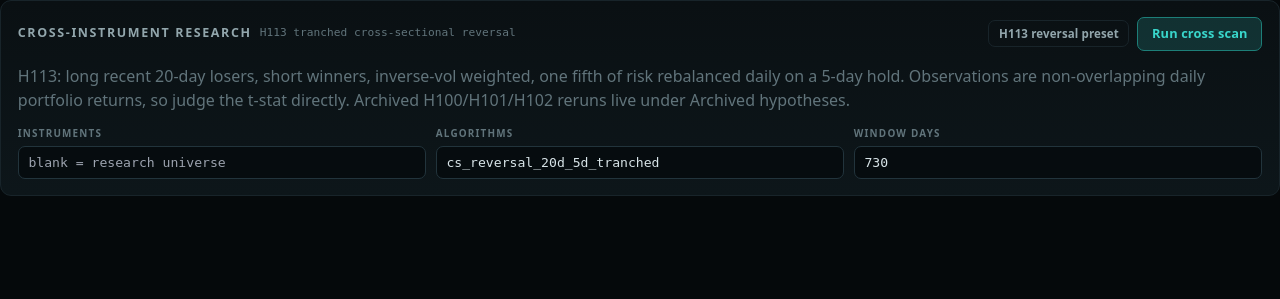
Scenario: submits the active H113 reversal preset and renders its row
What coordinates should you click on to do the following:
click the button "Run cross scan"
I would click on:
 (1200, 34)
Its box is [1138, 17, 1262, 51].
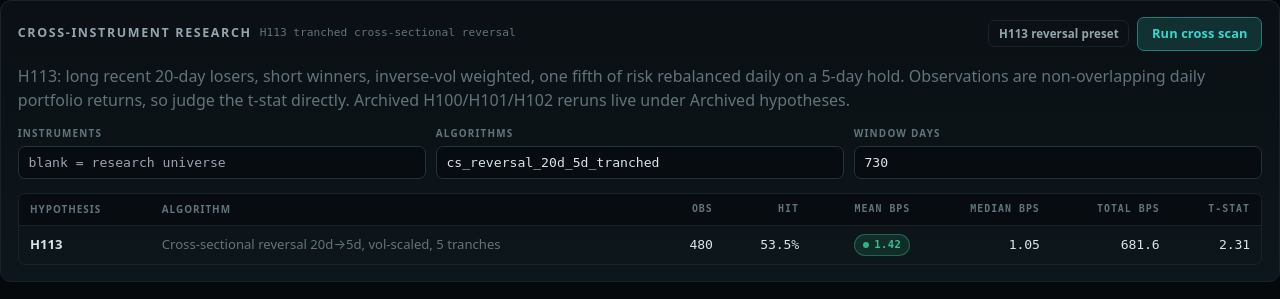
Check: the field labelled "Instruments" is empty, box [18, 146, 426, 179]
Check: the text "H113" is shown, box [19, 225, 151, 264]
Check: the text "Cross-sectional reversal 20d→5d, vol-scaled, 5 tranches" is shown, box [151, 225, 660, 264]
